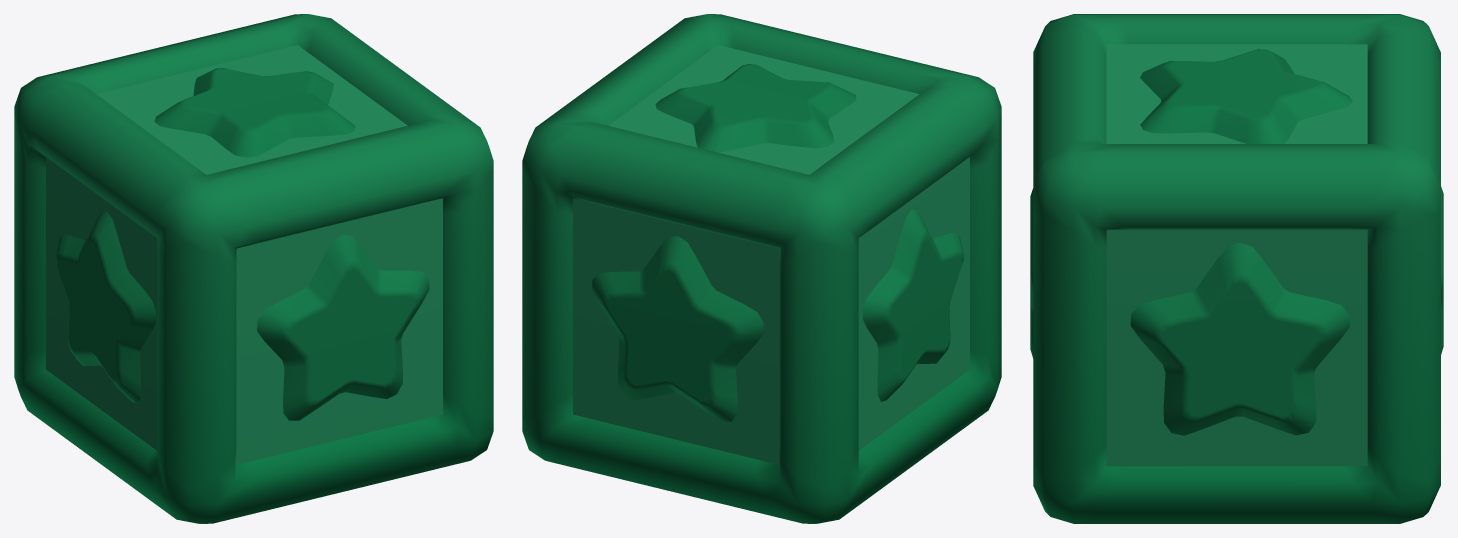
Rendered from Star_Block_Green.fbx.
The picture shows the model from 3 angles, left to right: view 1: azimuth 30°, elevation 25°; view 2: azimuth 150°, elevation 25°; view 3: azimuth 270°, elevation 25°; orthographic projection. The views are drawn at different scales.
Visible parts, largest first — view 1: Star Block_Green; view 2: Star Block_Green; view 3: Star Block_Green.
Part boxes in pixels (x1=…): Star Block_Green: x1=14, y1=14, x2=493, y2=523; Star Block_Green: x1=522, y1=14, x2=1001, y2=523; Star Block_Green: x1=1030, y1=14, x2=1443, y2=523.
Bounding box in the file's own units: 101 × 101 × 101.
